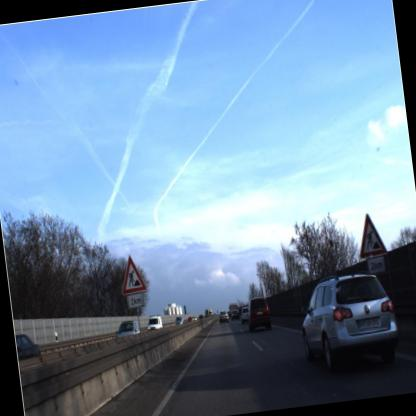danger: (352, 209, 388, 263), (113, 252, 149, 298)
